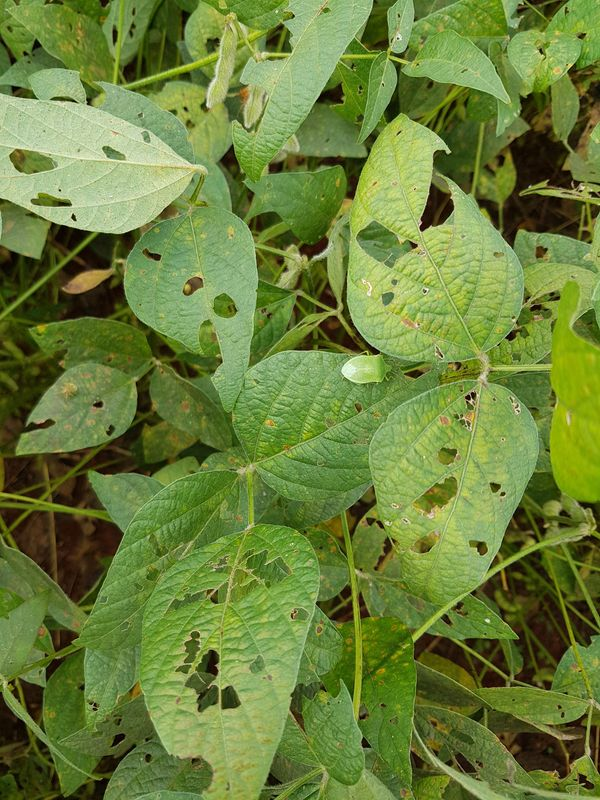Euschistus_heros_ninfa: (57, 378, 82, 404)
Nezara_viridula_adulto: (334, 345, 395, 392)
